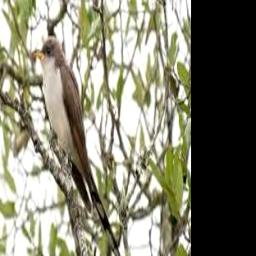Cuckoo: (35, 35, 122, 256)
